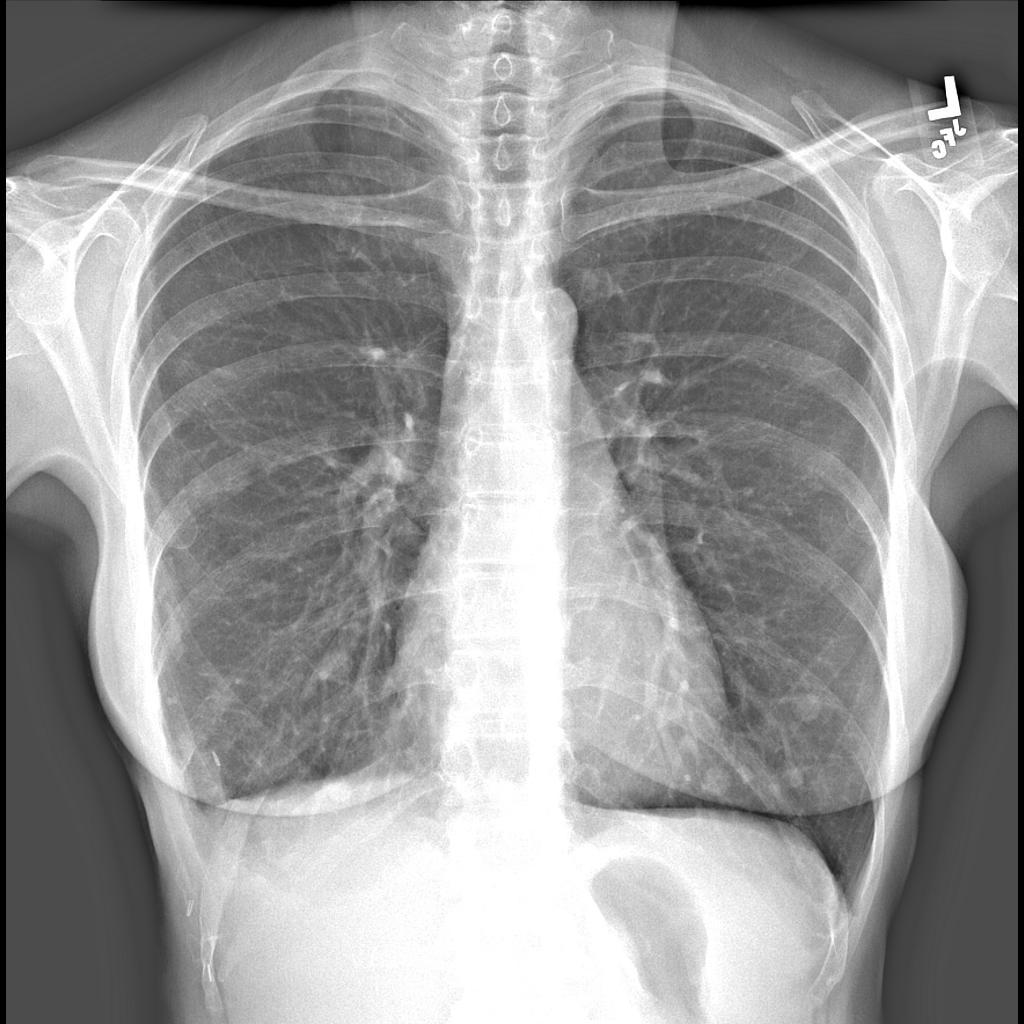Nodule: (308, 636, 364, 691), (696, 759, 740, 810), (791, 771, 820, 796)
